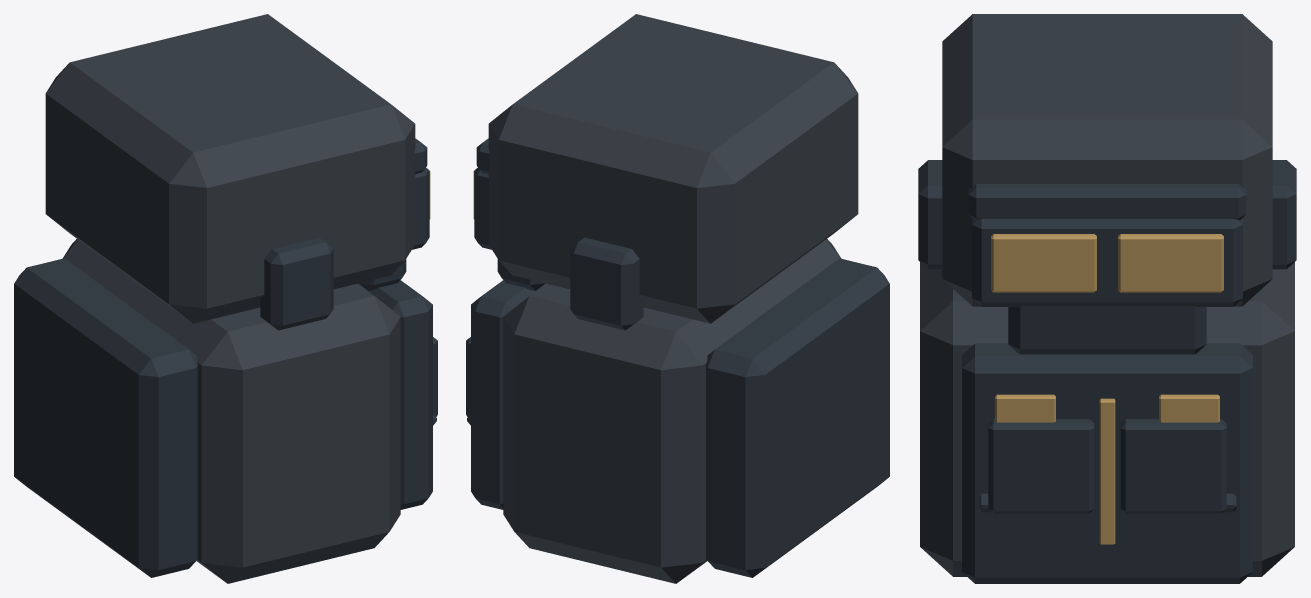
File: crimson-guard.monarch.glb
3 views of the same model, side by side, from view 1: azimuth 30°, elevation 25°; view 2: azimuth 150°, elevation 25°; view 3: azimuth 270°, elevation 25° (orthographic). The views are drawn at different scales.
Visible parts, largest first — view 1: crimson-guard_monarch__main__head_finish_3b424a_0.03, crimson-guard_monarch__main__torso_finish_3b424a_0.03, crimson-guard_monarch__main__torso_finish_303943_0.03, crimson-guard_monarch__main__head_finish_303943_0.03; view 2: crimson-guard_monarch__main__head_finish_3b424a_0.03, crimson-guard_monarch__main__torso_finish_3b424a_0.03, crimson-guard_monarch__main__torso_finish_303943_0.03, crimson-guard_monarch__main__head_finish_303943_0.03; view 3: crimson-guard_monarch__main__torso_finish_303943_0.03, crimson-guard_monarch__main__head_finish_3b424a_0.03, crimson-guard_monarch__main__head_finish_303943_0.03, crimson-guard_monarch__main__torso_finish_3b424a_0.03, crimson-guard_monarch__main__head_finish_bb9a60_0.03, crimson-guard_monarch__main__torso_finish_bb9a60_0.03.
Part boxes in pixels (bbox=[...]): crimson-guard_monarch__main__head_finish_3b424a_0.03: bbox=[45, 14, 415, 323]; crimson-guard_monarch__main__torso_finish_3b424a_0.03: bbox=[62, 239, 400, 583]; crimson-guard_monarch__main__torso_finish_303943_0.03: bbox=[14, 258, 437, 577]; crimson-guard_monarch__main__head_finish_303943_0.03: bbox=[260, 138, 429, 330]; crimson-guard_monarch__main__head_finish_3b424a_0.03: bbox=[488, 14, 858, 323]; crimson-guard_monarch__main__torso_finish_3b424a_0.03: bbox=[503, 239, 841, 583]; crimson-guard_monarch__main__torso_finish_303943_0.03: bbox=[466, 258, 889, 577]; crimson-guard_monarch__main__head_finish_303943_0.03: bbox=[474, 138, 643, 330]; crimson-guard_monarch__main__torso_finish_303943_0.03: bbox=[962, 343, 1252, 583]; crimson-guard_monarch__main__head_finish_3b424a_0.03: bbox=[942, 14, 1272, 306]; crimson-guard_monarch__main__head_finish_303943_0.03: bbox=[918, 160, 1296, 354]; crimson-guard_monarch__main__torso_finish_3b424a_0.03: bbox=[920, 262, 1294, 576]; crimson-guard_monarch__main__head_finish_bb9a60_0.03: bbox=[991, 234, 1223, 292]; crimson-guard_monarch__main__torso_finish_bb9a60_0.03: bbox=[995, 394, 1219, 544].
Size of the model in its own units: 30 by 39.3 by 28.6.
